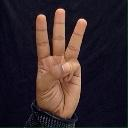hand: (34, 7, 87, 120)
